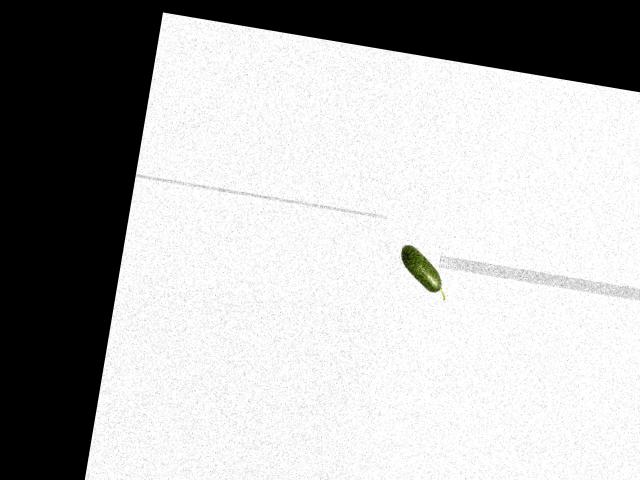cucumber: (395, 243, 454, 300)
